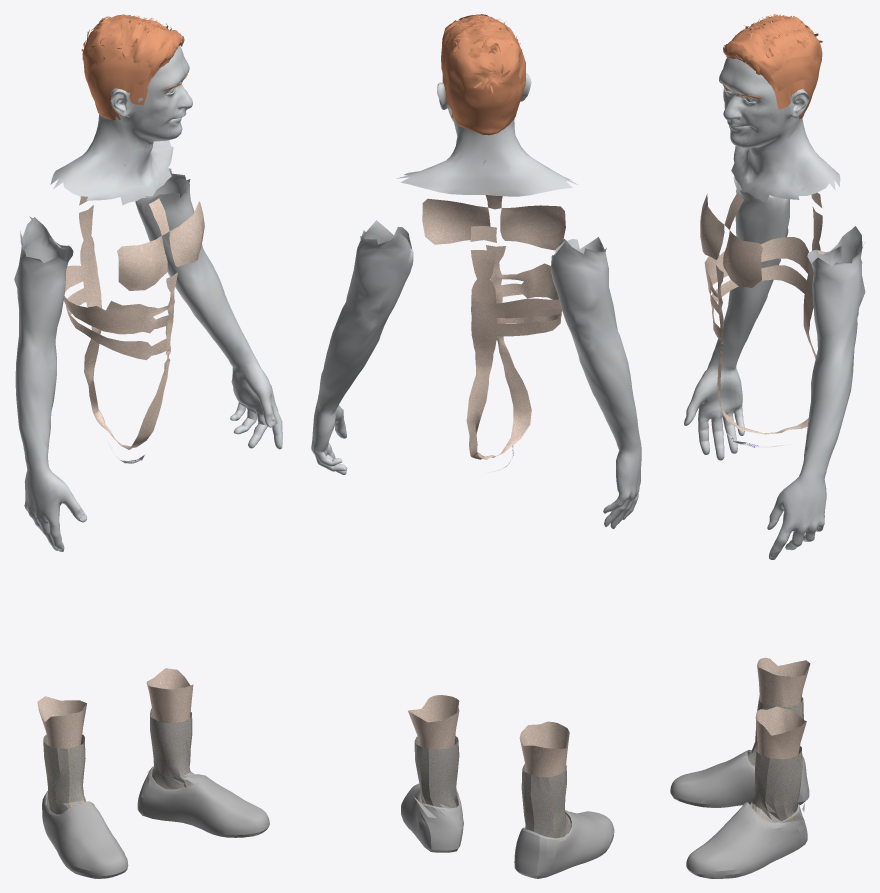
The model's file is skeleton.dae.
The picture shows the model from 3 angles, left to right: view 1: azimuth 30°, elevation 25°; view 2: azimuth 150°, elevation 25°; view 3: azimuth 270°, elevation 25°; orthographic projection. The views are drawn at different scales.
Parts seen in each view (by area): view 1: group_4_002, group_4, group_4_001, group_5_004, group_6, group_1, group_1_001, group_0_008, group_0_009, group_5_014, group_5_010, group_5_013 (+1 smaller); view 2: group_4_002, group_4_001, group_5_004, group_6, group_4, group_1_001, group_0_009, group_1, group_5_014, group_0_008, group_5_011, group_5_013 (+1 smaller); view 3: group_4_001, group_4, group_4_002, group_1, group_5_004, group_6, group_1_001, group_0_008, group_5_010, group_5_013, group_5_011, group_6_050 (+2 smaller).
Boxes of the visible parts, box(x1,y1,x2,y2) form: group_4_002: box(14, 217, 87, 551); group_4: box(50, 46, 192, 205); group_4_001: box(135, 168, 282, 449); group_5_004: box(63, 205, 177, 449); group_6: box(82, 15, 181, 120); group_1: box(137, 767, 269, 837); group_1_001: box(42, 791, 128, 878); group_0_008: box(150, 708, 194, 789); group_0_009: box(43, 734, 85, 814); group_5_014: box(117, 236, 167, 290); group_5_010: box(146, 668, 193, 723); group_5_013: box(37, 696, 86, 748); group_4_002: box(550, 237, 641, 529); group_4_001: box(311, 220, 413, 474); group_5_004: box(466, 245, 561, 460); group_6: box(442, 15, 525, 135); group_4: box(396, 72, 577, 196); group_1_001: box(514, 810, 614, 878); group_0_009: box(521, 764, 570, 838); group_1: box(401, 783, 463, 851); group_5_014: box(500, 205, 565, 250); group_0_008: box(414, 736, 459, 808); group_5_011: box(422, 198, 490, 244); group_5_013: box(519, 721, 569, 777); group_4_001: box(767, 226, 865, 559); group_4: box(719, 58, 840, 202); group_4_002: box(684, 177, 789, 460); group_1: box(686, 802, 807, 878); group_5_004: box(704, 206, 822, 434); group_6: box(726, 16, 822, 118); group_1_001: box(670, 750, 809, 807); group_0_008: box(750, 746, 802, 822); group_5_010: box(755, 706, 806, 759); group_5_013: box(757, 657, 810, 707); group_5_011: box(723, 230, 762, 287); group_6_050: box(770, 55, 819, 91).
Size of the model in its own units: 0.661 by 0.3934 by 1.8.
